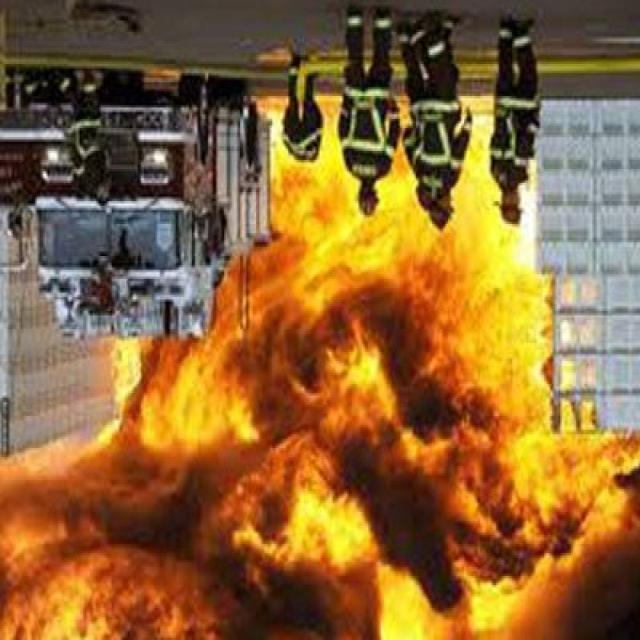fire: (2, 224, 630, 640)
person: (407, 0, 466, 241), (484, 0, 542, 226), (337, 6, 397, 216), (283, 70, 320, 158)
truck: (0, 73, 279, 357)
